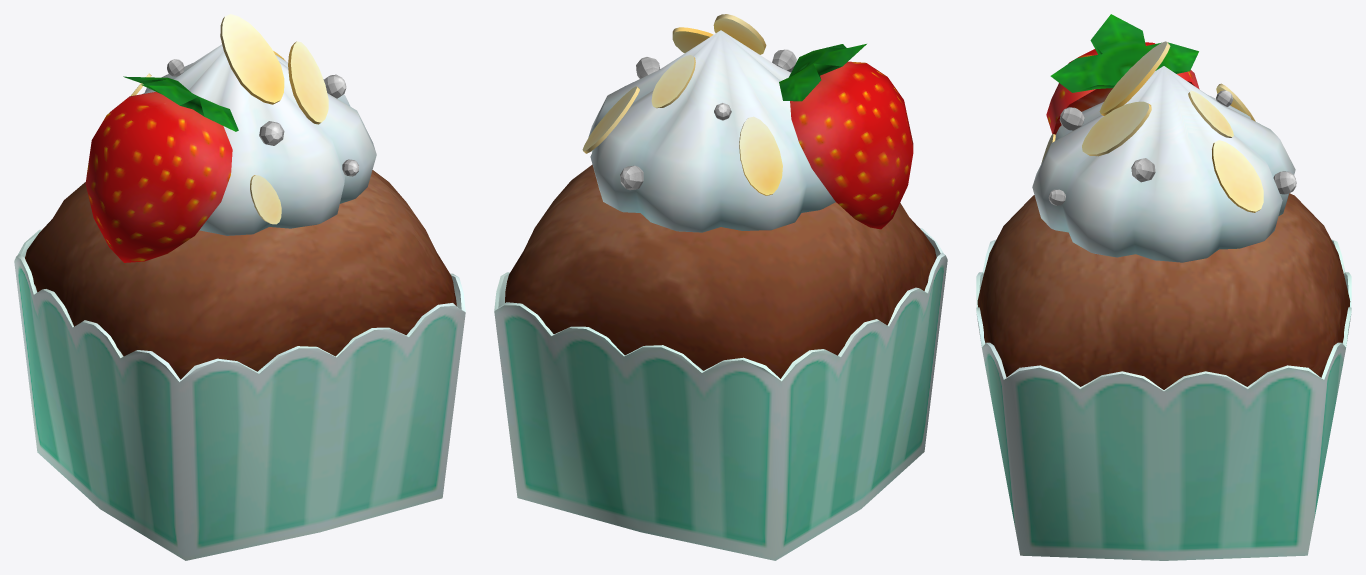
The picture shows the model from 3 angles, left to right: view 1: azimuth 30°, elevation 25°; view 2: azimuth 150°, elevation 25°; view 3: azimuth 270°, elevation 25°; orthographic projection. The views are drawn at different scales.
Parts seen in each view (by area): view 1: chocolatecupcake_00_ma (×2), strberry00_ma, arazan00_ma; view 2: chocolatecupcake_00_ma (×2), strberry00_ma, arazan00_ma; view 3: chocolatecupcake_00_ma (×2), strberry00_ma, arazan00_ma.
Boxes of the visible parts, left/top/right/bottom form: chocolatecupcake_00_ma (×2): left=14, top=14, right=465, bottom=560; strberry00_ma: left=85, top=76, right=238, bottom=262; arazan00_ma: left=167, top=59, right=358, bottom=176; chocolatecupcake_00_ma (×2): left=494, top=14, right=947, bottom=560; strberry00_ma: left=779, top=44, right=913, bottom=229; arazan00_ma: left=620, top=49, right=796, bottom=190; chocolatecupcake_00_ma (×2): left=976, top=41, right=1351, bottom=560; strberry00_ma: left=1046, top=14, right=1199, bottom=134; arazan00_ma: left=1048, top=90, right=1296, bottom=205.
Bounding box in the file's own units: 0.4653 × 0.6095 × 0.4633.
Materials: 3 (3 with a texture image).
